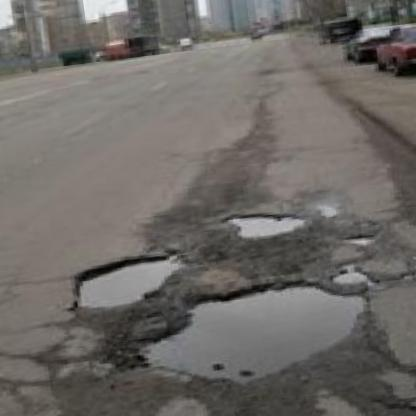pothole: (126, 272, 374, 394), (57, 246, 186, 316), (225, 206, 309, 243), (332, 262, 376, 290), (346, 231, 374, 248)
